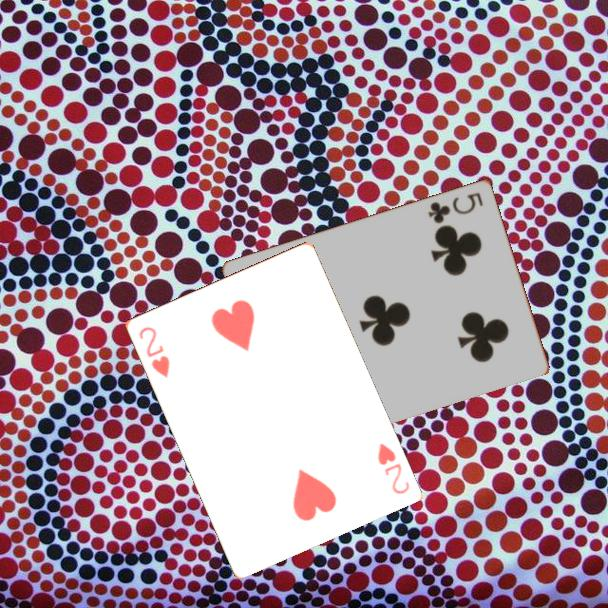c05: (425, 188, 486, 226)
h02: (374, 439, 412, 497), (135, 323, 172, 381)
